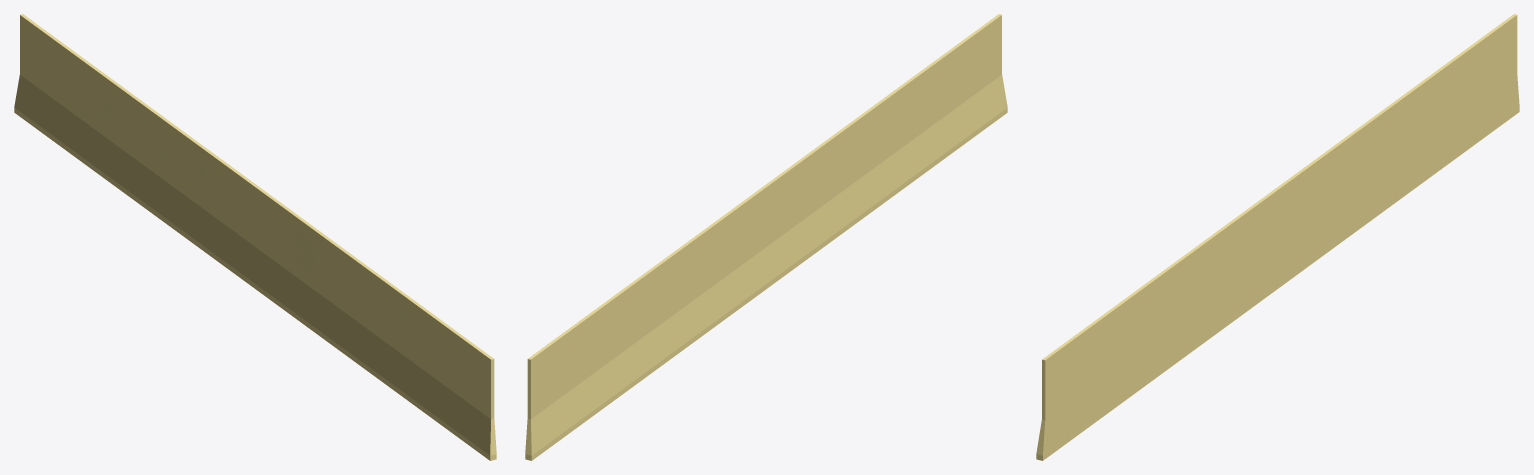
The model's file is interior_school_room_south_00_invisible.fbx.
3 views of the same model, side by side, from view 1: azimuth 30°, elevation 25°; view 2: azimuth 150°, elevation 25°; view 3: azimuth 330°, elevation 25° (orthographic).
Parts seen in each view (by area): view 1: Invisible Mesh; view 2: Invisible Mesh; view 3: Invisible Mesh.
Boxes of the visible parts, box(x1,y1,x2,y2) form: Invisible Mesh: box(14, 14, 496, 460); Invisible Mesh: box(525, 14, 1007, 460); Invisible Mesh: box(1036, 14, 1519, 460).
Size of the model in its own units: 26.47 by 380 by 3322.
